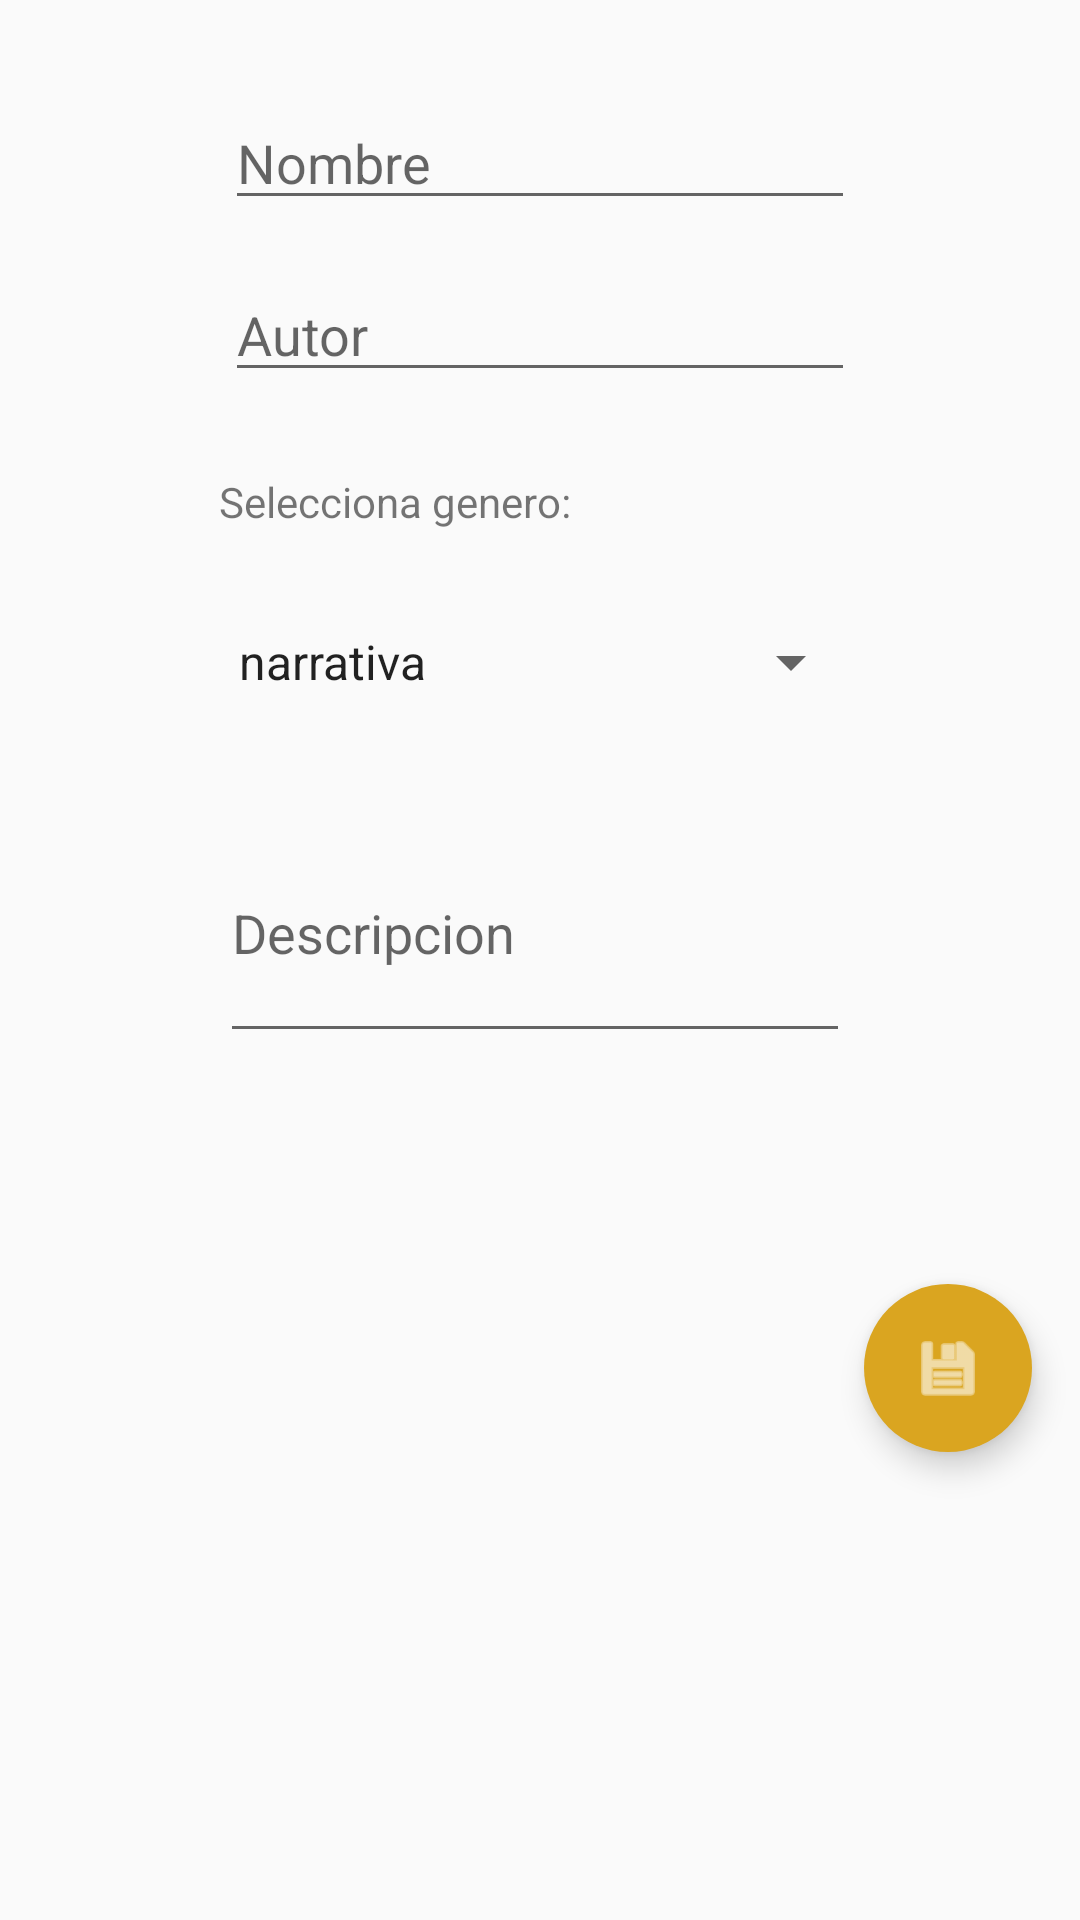

Locate icon controls on the screen. Image size 1080×1920, boxes as (x1, y1, x2, y2).
save: (864, 1284, 1032, 1452)
